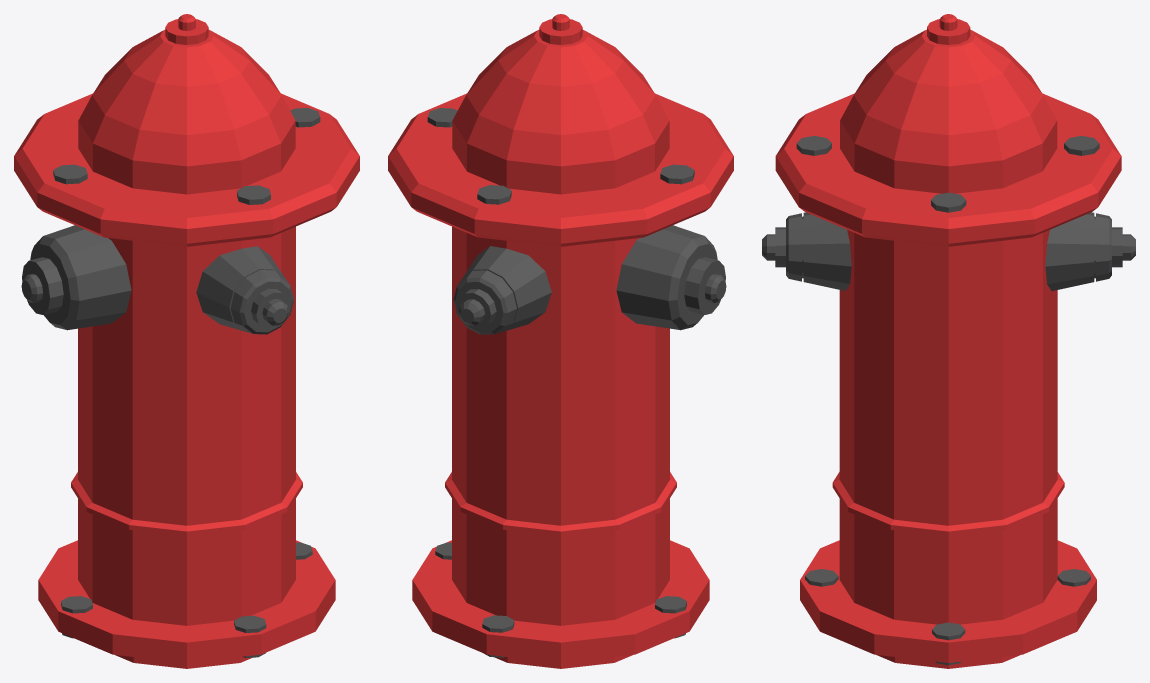
Rendered from fireHydrant.fbx.
3 views of the same model, side by side, from view 1: azimuth 30°, elevation 25°; view 2: azimuth 150°, elevation 25°; view 3: azimuth 270°, elevation 25° (orthographic).
Visible parts, largest first — view 1: Hydrant, Circle.001, Bolt, Bolt.002, Bolt.006; view 2: Hydrant, Circle.002, Bolt.003, Bolt, Bolt.007; view 3: Hydrant, Circle.002, Circle.001, Bolt.002, Bolt.001, Bolt.003.
Boxes of the visible parts, left/top/right/bottom form: Hydrant: left=14, top=14, right=359, bottom=668; Circle.001: left=196, top=246, right=294, bottom=334; Bolt: left=53, top=164, right=87, bottom=184; Bolt.002: left=237, top=185, right=270, bottom=204; Bolt.006: left=234, top=615, right=266, bottom=657; Hydrant: left=388, top=14, right=733, bottom=668; Circle.002: left=453, top=246, right=551, bottom=334; Bolt.003: left=477, top=185, right=511, bottom=204; Bolt: left=660, top=164, right=694, bottom=184; Bolt.007: left=482, top=615, right=514, bottom=657; Hydrant: left=775, top=14, right=1121, bottom=668; Circle.002: left=1045, top=212, right=1135, bottom=290; Circle.001: left=762, top=212, right=851, bottom=290; Bolt.002: left=796, top=136, right=831, bottom=155; Bolt.001: left=931, top=192, right=966, bottom=212; Bolt.003: left=1064, top=136, right=1099, bottom=155.
Size of the model in its own units: 335 by 627 by 350.
